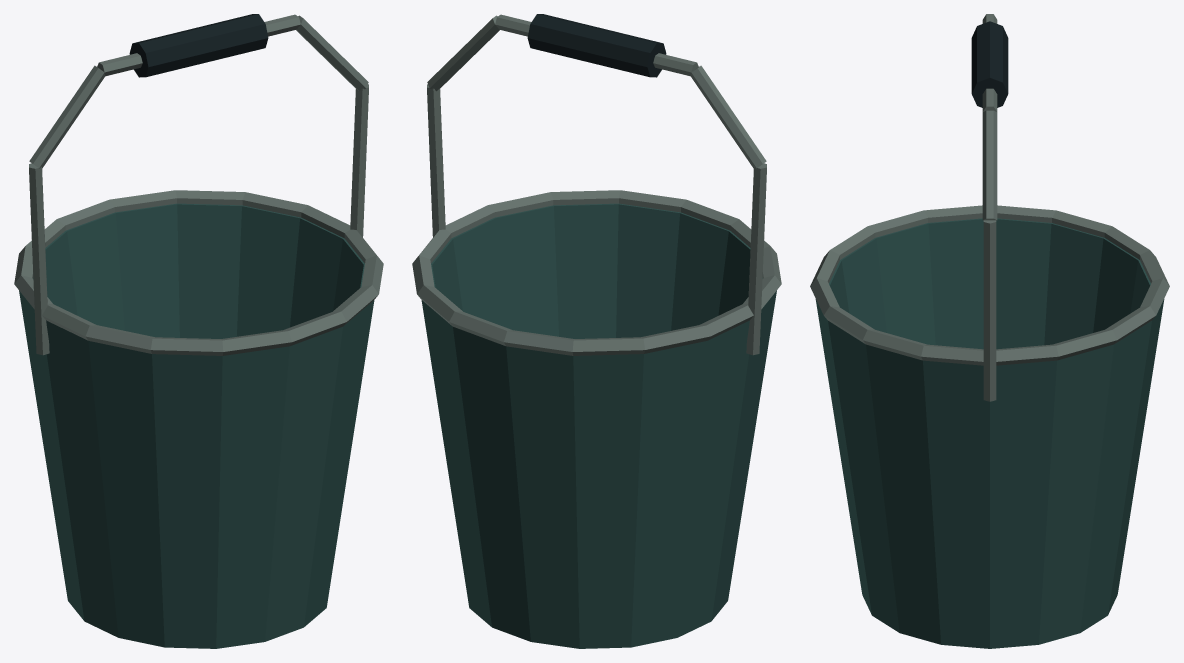
File: service-bucket.glb
The picture shows the model from 3 angles, left to right: view 1: azimuth 30°, elevation 25°; view 2: azimuth 150°, elevation 25°; view 3: azimuth 270°, elevation 25°; orthographic projection. The views are drawn at different scales.
Parts seen in each view (by area): view 1: service-bucket; view 2: service-bucket; view 3: service-bucket.
Part boxes in pixels (<box>): service-bucket: <box>14,14,383,648</box>; service-bucket: <box>412,14,781,648</box>; service-bucket: <box>810,14,1169,648</box>.
Bounding box in the file's own units: 0.312 × 0.495 × 0.296.
